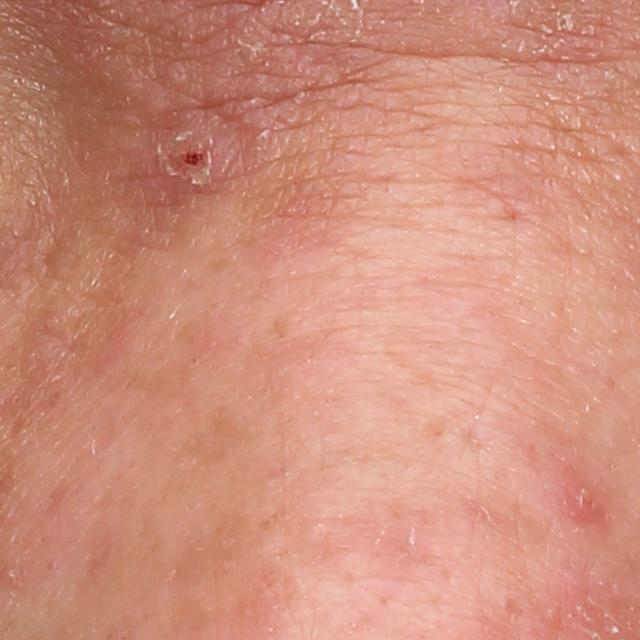papule: (168, 116, 234, 192), (555, 468, 611, 531)
